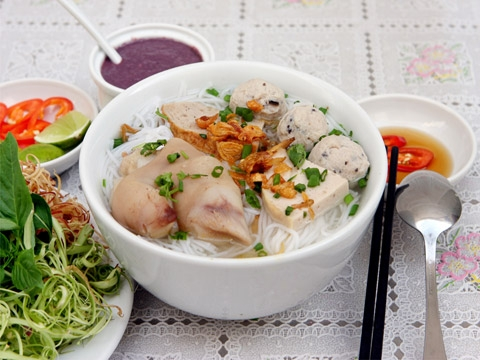chamoc: (307, 133, 367, 187), (162, 97, 226, 146), (232, 79, 287, 122), (279, 104, 328, 152)
pork: (114, 141, 249, 238)
vegetable: (28, 190, 89, 276)
